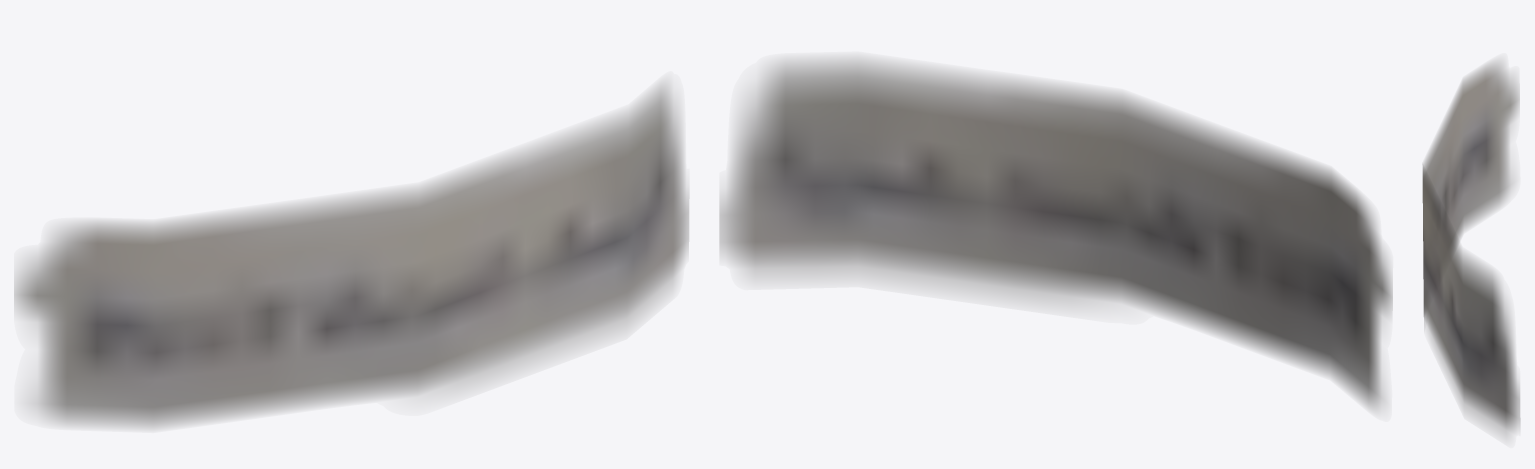
Rendered from bottle_label_c.glb.
The picture shows the model from 3 angles, left to right: view 1: azimuth 30°, elevation 25°; view 2: azimuth 150°, elevation 25°; view 3: azimuth 270°, elevation 25°; orthographic projection. The views are drawn at different scales.
Parts seen in each view (by area): view 1: chemistry_set_bottle_label_c.001; view 2: chemistry_set_bottle_label_c.001; view 3: chemistry_set_bottle_label_c.001.
Part boxes in pixels (<box>): chemistry_set_bottle_label_c.001: <box>14,84,688,428</box>; chemistry_set_bottle_label_c.001: <box>719,59,1392,409</box>; chemistry_set_bottle_label_c.001: <box>1422,61,1519,435</box>.
Bounding box in the file's own units: 0.027 × 0.0104 × 0.00465.
Materials: 1 (1 with a texture image).
